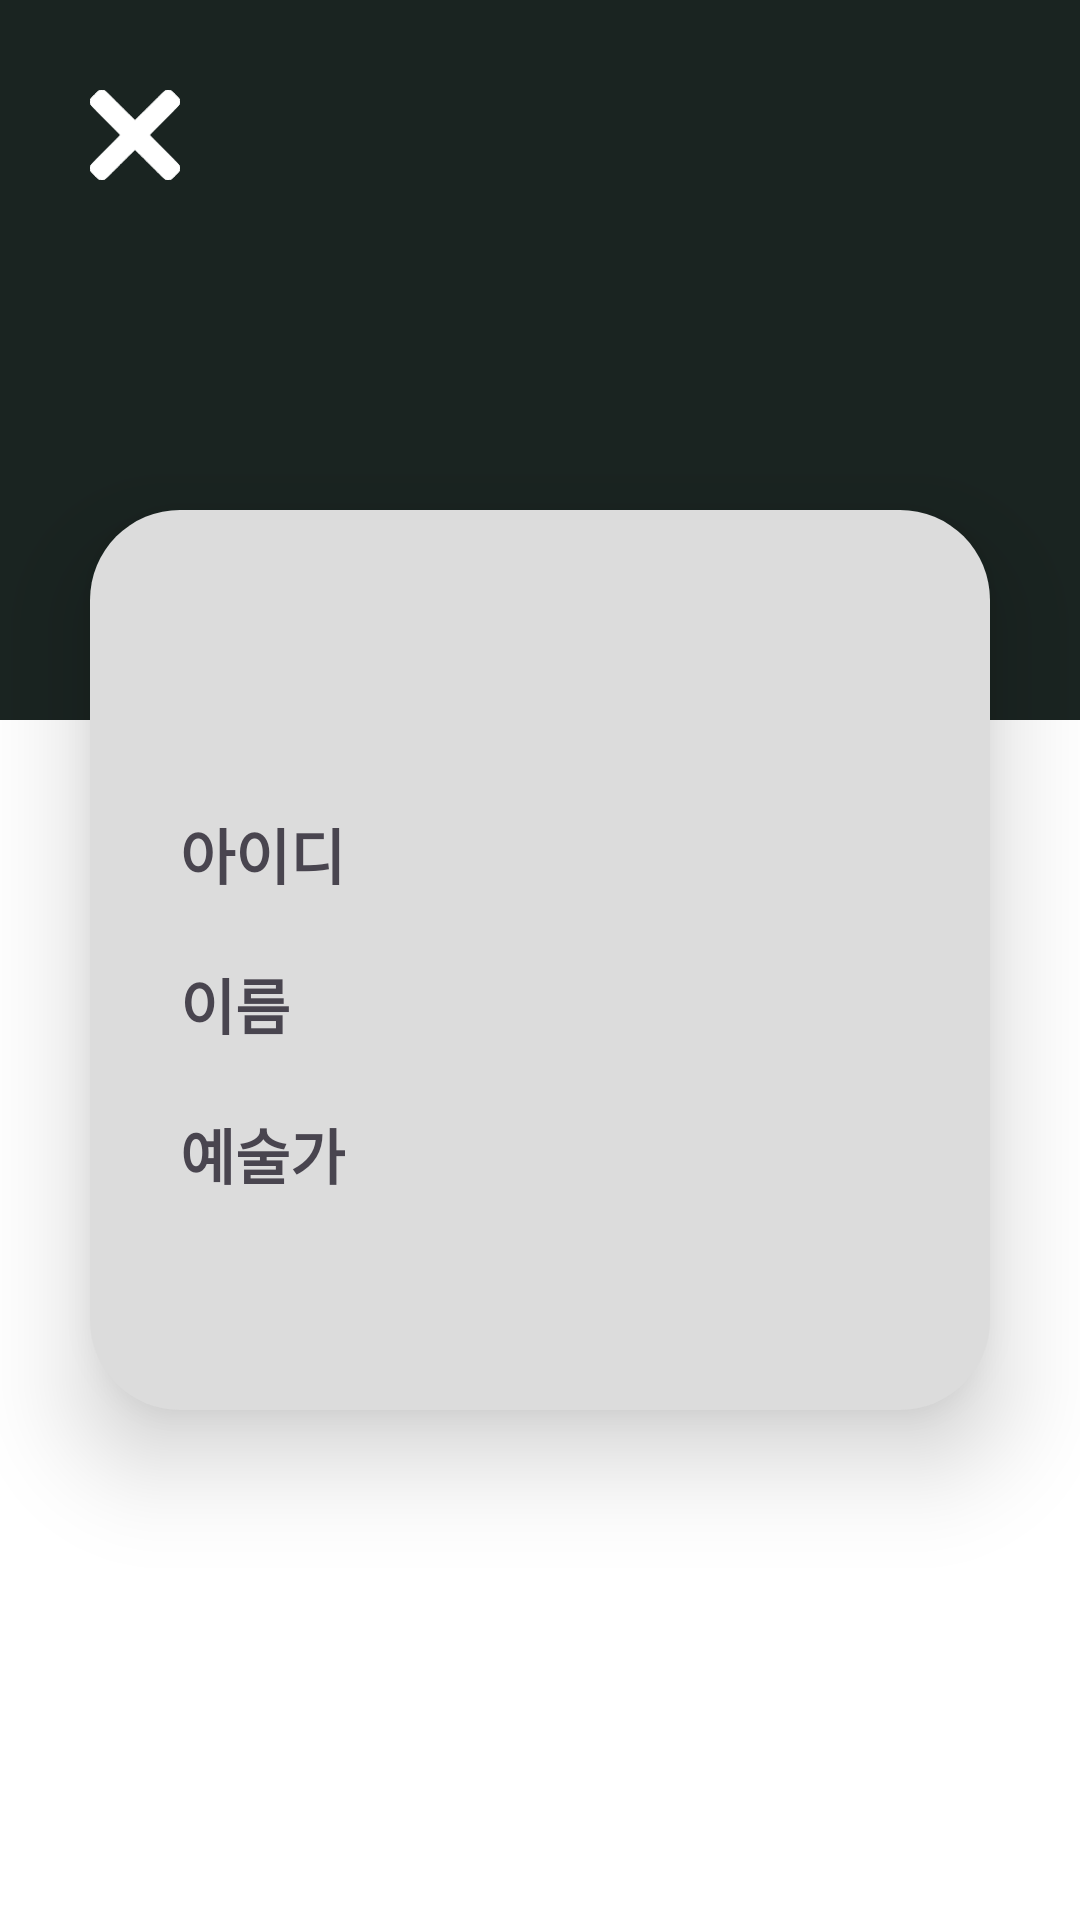

Icon click points for this 1080x1920 phone screenshot, format (x=x, y=y):
cancel: (x=135, y=135)
